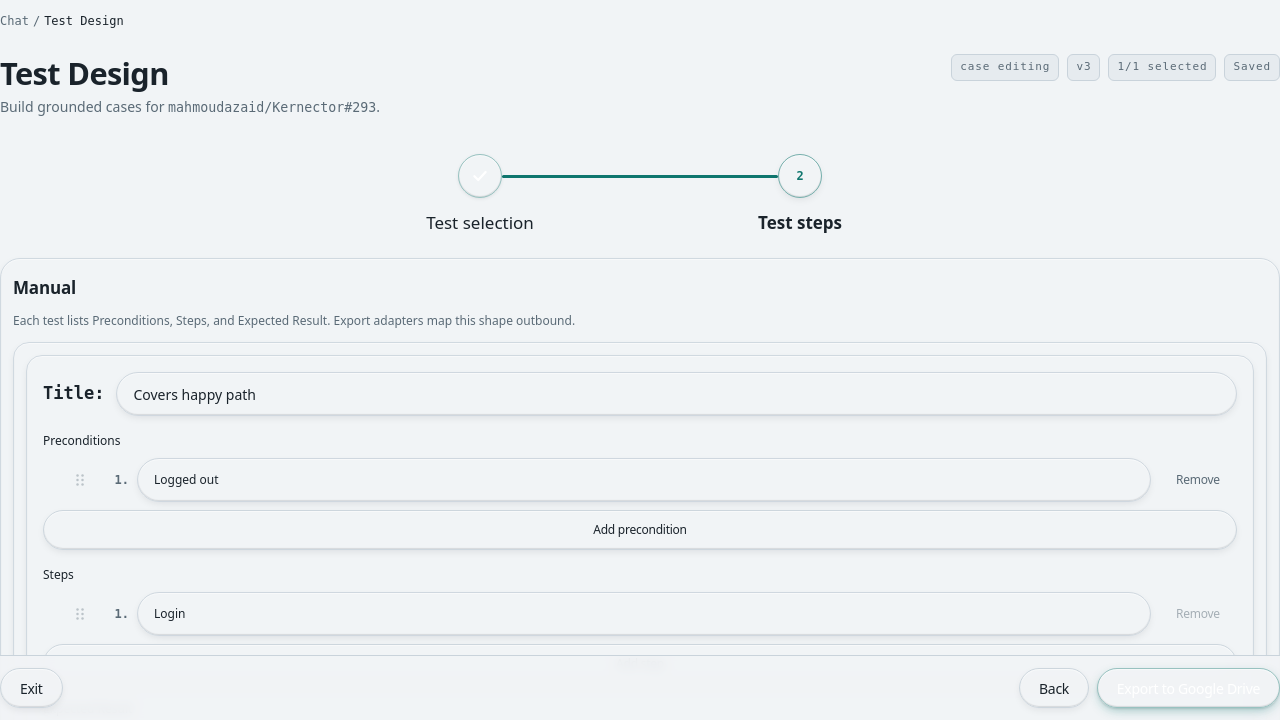
TestDesignWorkspace › shows an error when export fails
Click the button "Export to Google Drive": (1188, 688) [1097,668,1279,708]
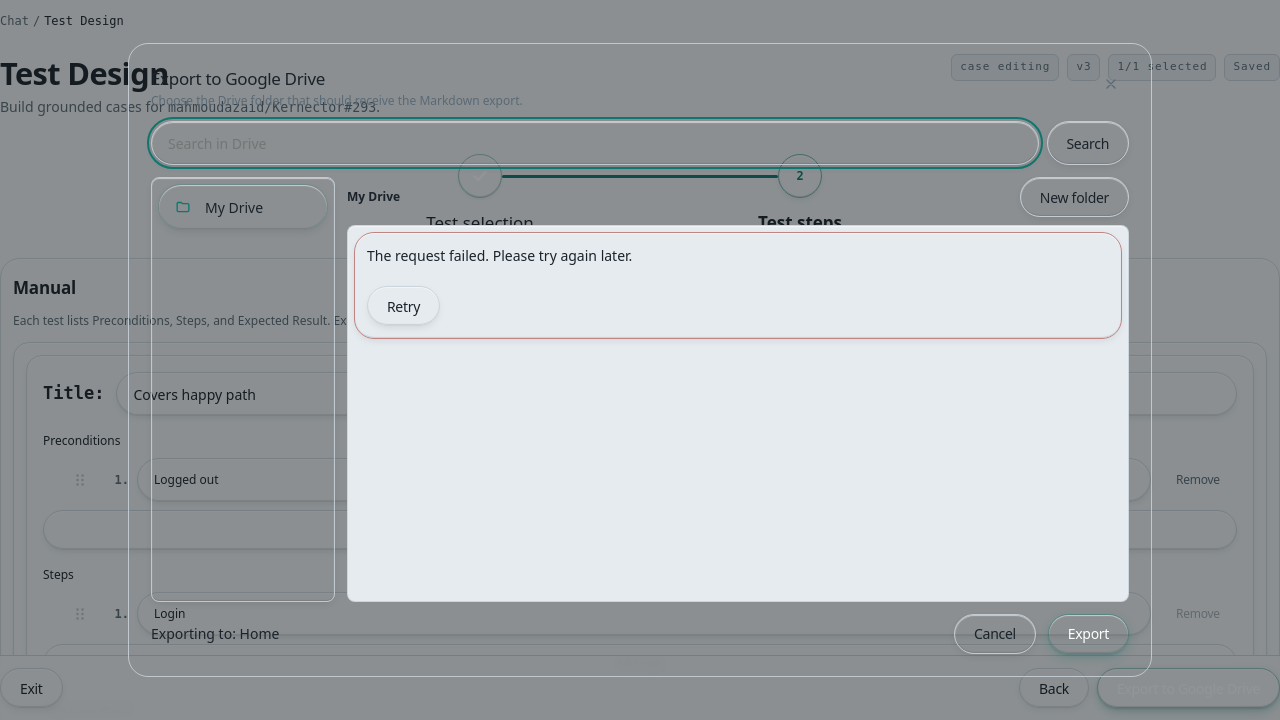
Click the button "Export": (1088, 634) [1048,614,1129,654]
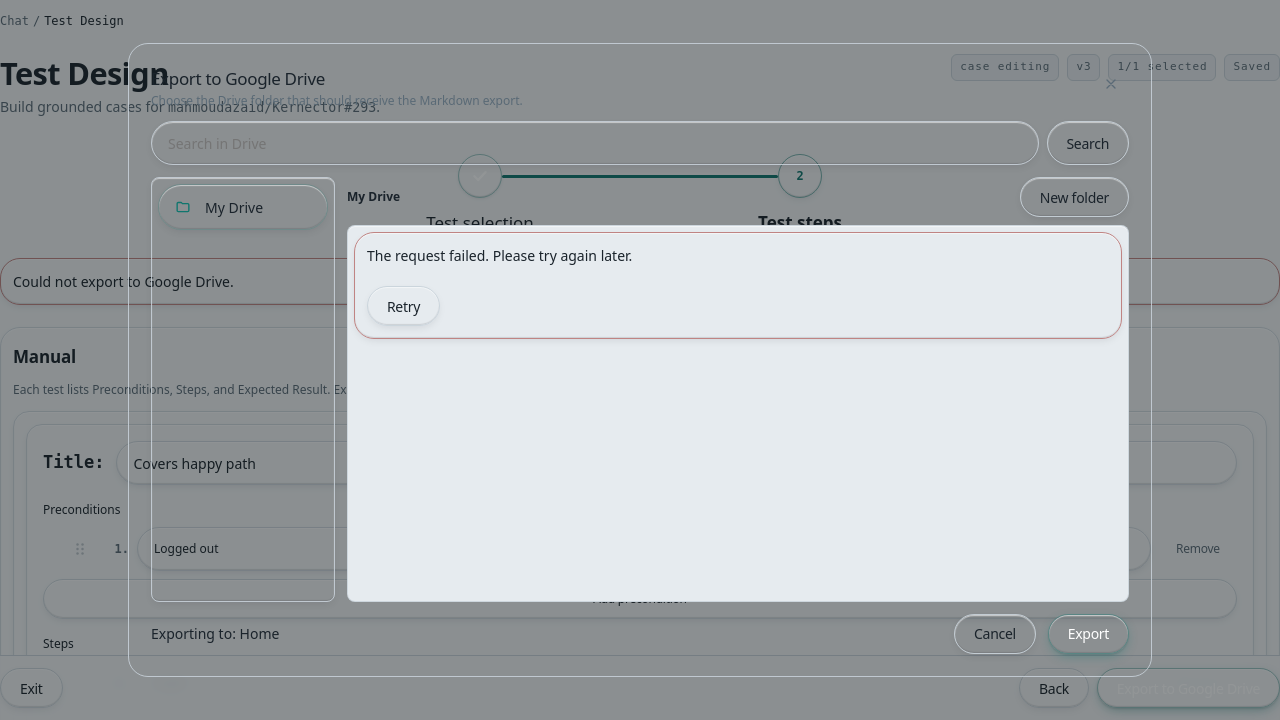
Now the message "Could not export to Google Drive." is shown, box [0,258,1279,304]
